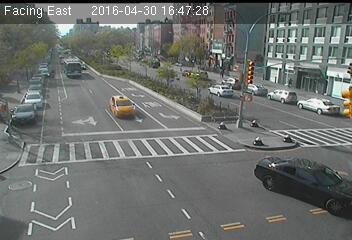neg: (305, 165, 324, 191), (287, 16, 306, 41), (96, 51, 112, 73), (36, 166, 51, 186), (111, 93, 124, 110), (147, 74, 160, 90), (286, 74, 298, 91), (283, 128, 295, 144), (216, 65, 228, 80), (183, 64, 195, 79), (253, 135, 263, 149), (302, 93, 312, 105), (33, 90, 42, 102), (33, 71, 42, 83), (66, 61, 75, 73), (120, 60, 129, 71), (259, 69, 267, 80)
